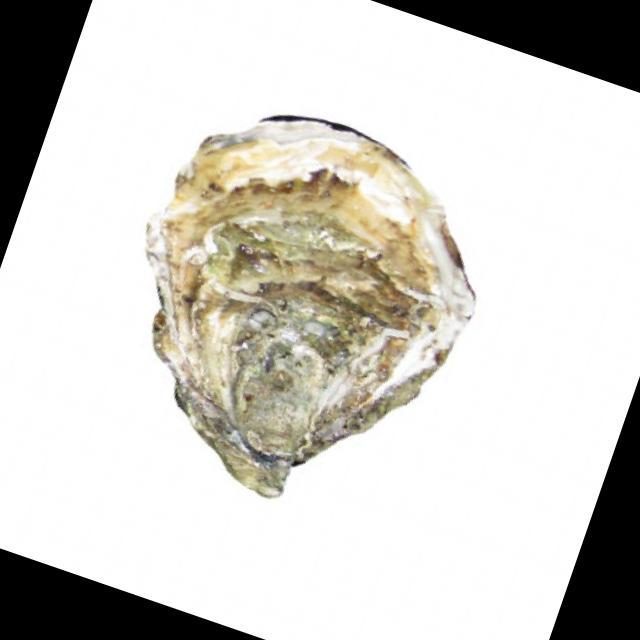Oyster- Indeterminate: (142, 116, 477, 502)
